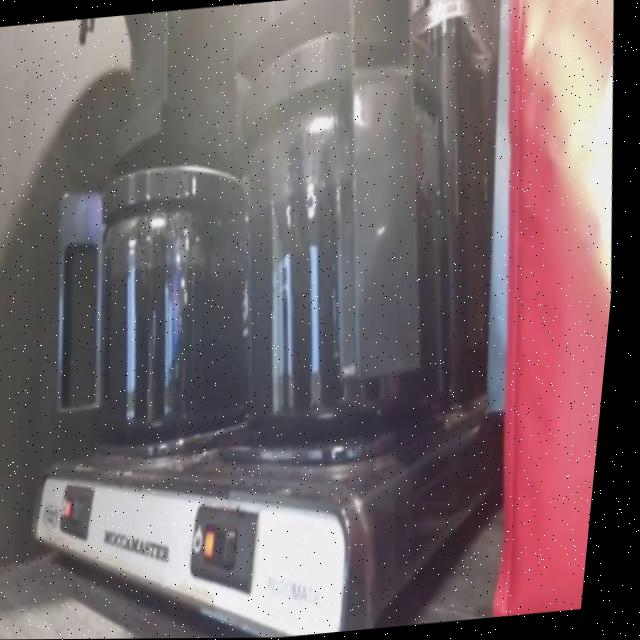coffee: (228, 126, 469, 432), (96, 216, 271, 431)
